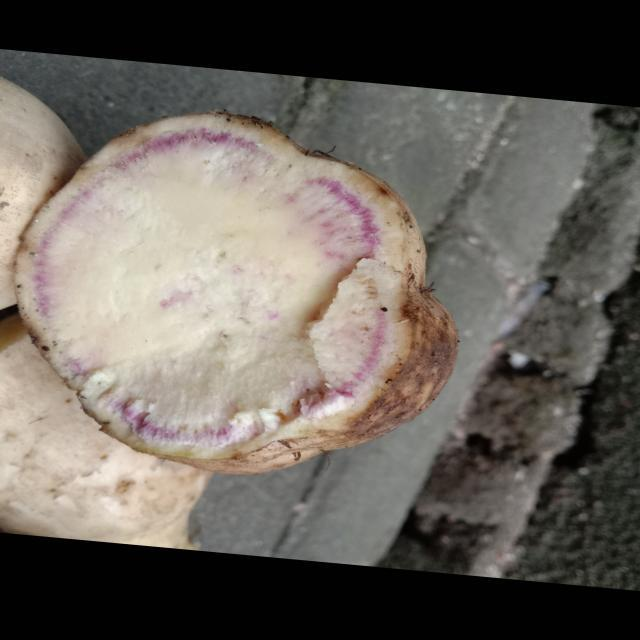Healthy Sweet Potato: (15, 111, 457, 474)
